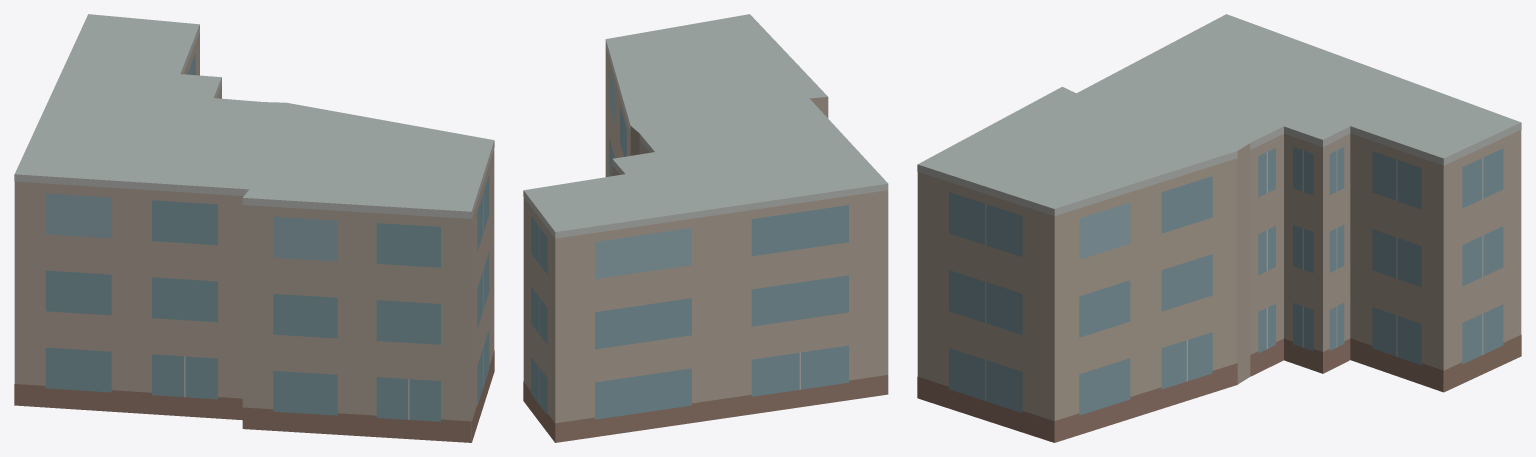
File: survey-upis-32977288.glb
The picture shows the model from 3 angles, left to right: view 1: azimuth 30°, elevation 25°; view 2: azimuth 150°, elevation 25°; view 3: azimuth 270°, elevation 25°; orthographic projection. The views are drawn at different scales.
Parts seen in each view (by area): view 1: survey-upis-32977288.tmp; view 2: survey-upis-32977288.tmp; view 3: survey-upis-32977288.tmp.
Part boxes in pixels (x1,y1,x2,y2): survey-upis-32977288.tmp: (14, 14, 494, 442); survey-upis-32977288.tmp: (523, 14, 888, 442); survey-upis-32977288.tmp: (917, 14, 1521, 442).
Bounding box in the file's own units: 14.14 × 7.9 × 18.5.
